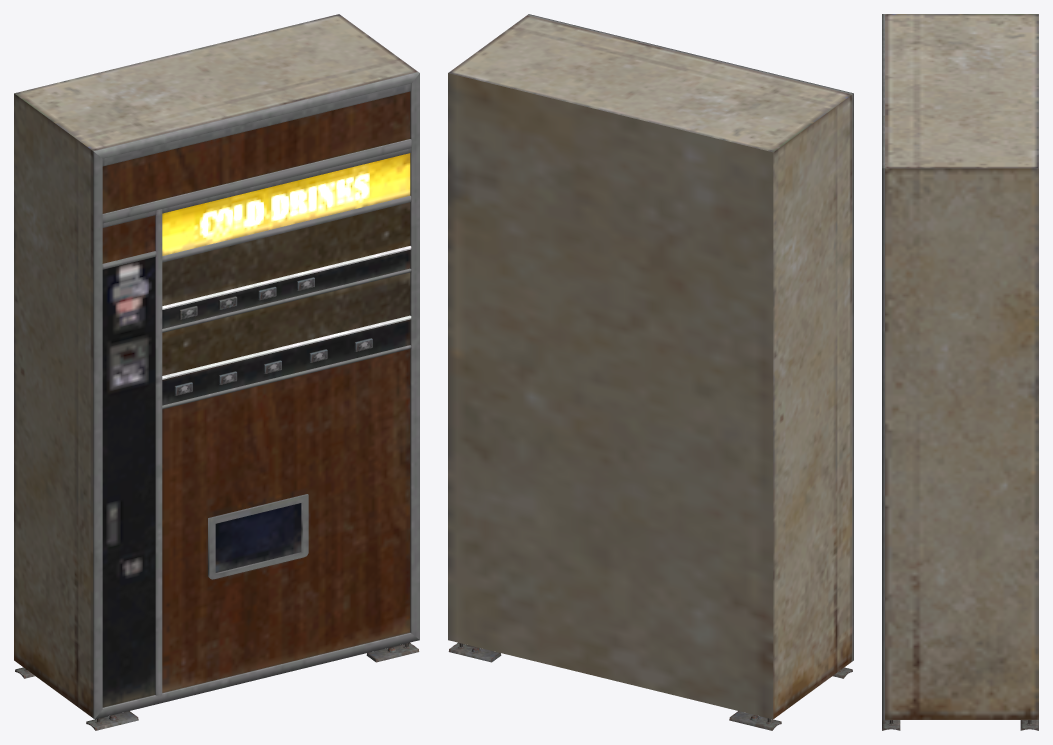
Rendered from sm24_001_vendingmachine01a.fbx.
3 renders of one model, left to right at view 1: azimuth 30°, elevation 25°; view 2: azimuth 150°, elevation 25°; view 3: azimuth 270°, elevation 25°, orthographic. The views are drawn at different scales.
Parts seen in each view (by area): view 1: LOD_1_Group_0_Sub_1__sm24_001_VendingMachine01A_A_Mat, LOD_1_Group_0_Sub_2__sm24_001_VendingMachine01A_B_Mat; view 2: LOD_1_Group_0_Sub_1__sm24_001_VendingMachine01A_A_Mat; view 3: LOD_1_Group_0_Sub_1__sm24_001_VendingMachine01A_A_Mat.
Boxes of the visible parts, <box> form: LOD_1_Group_0_Sub_1__sm24_001_VendingMachine01A_A_Mat: <box>14,14,419,730</box>; LOD_1_Group_0_Sub_2__sm24_001_VendingMachine01A_B_Mat: <box>162,202,410,375</box>; LOD_1_Group_0_Sub_1__sm24_001_VendingMachine01A_A_Mat: <box>448,14,853,730</box>; LOD_1_Group_0_Sub_1__sm24_001_VendingMachine01A_A_Mat: <box>882,14,1038,730</box>.
Bounding box in the file's own units: 1.2 × 2.04 × 0.5157.
